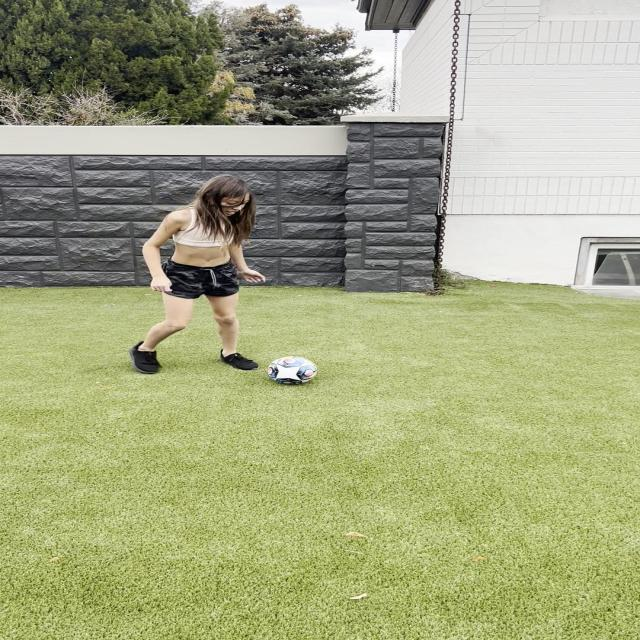Soccer Ball: (268, 356, 317, 385)
